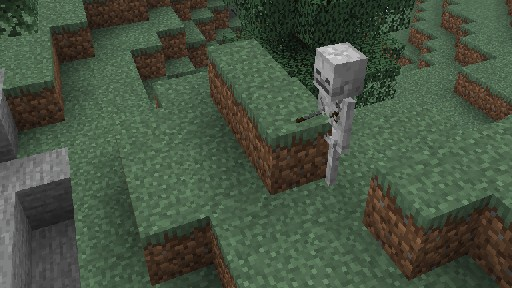skeleton: (293, 41, 367, 186)
